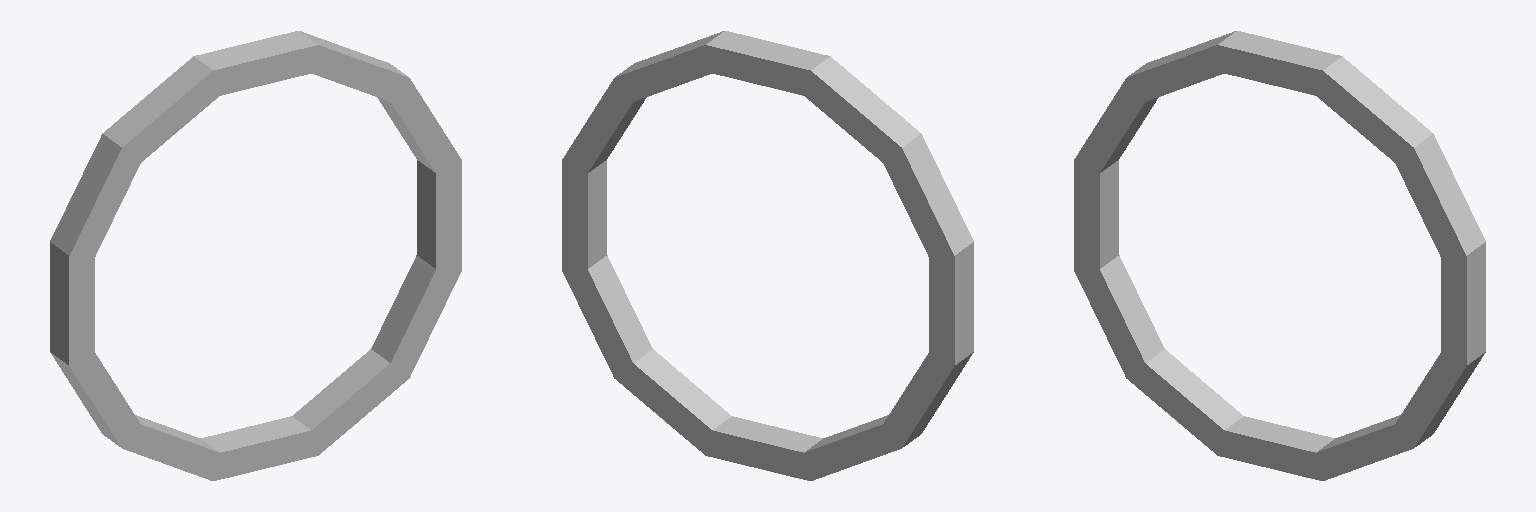
The model's file is steam_engine_bone.obj.
3 renders of one model, left to right at view 1: azimuth 30°, elevation 25°; view 2: azimuth 150°, elevation 25°; view 3: azimuth 330°, elevation 25°, orthographic.
Visible parts, largest first — view 1: tube; view 2: tube; view 3: tube.
Part boxes in pixels (bbox=[...]): tube: bbox=[50, 31, 461, 480]; tube: bbox=[562, 31, 973, 480]; tube: bbox=[1074, 31, 1485, 480].
Size of the model in its own units: 0.78 by 0.78 by 0.0675.